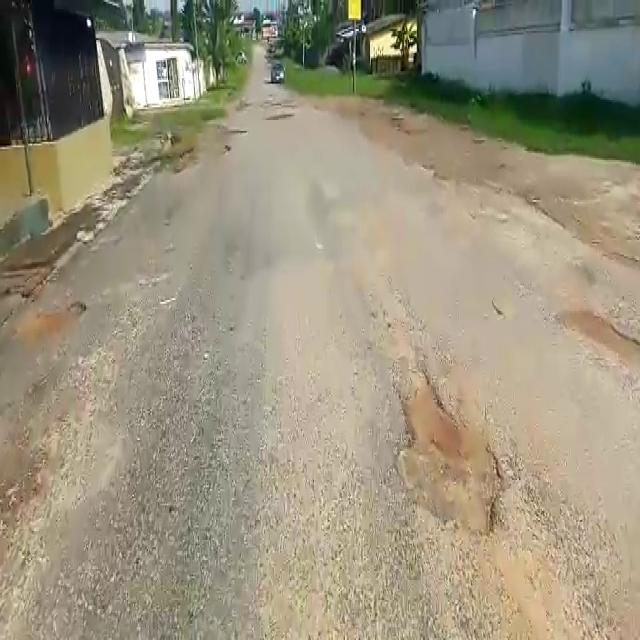Pothole: (386, 365, 512, 544), (555, 300, 640, 389), (17, 302, 89, 348)
